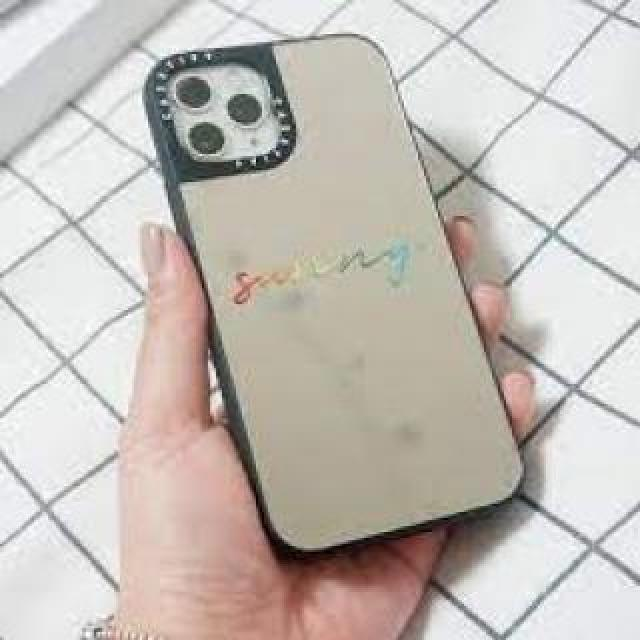smart phone: (118, 33, 571, 565)
